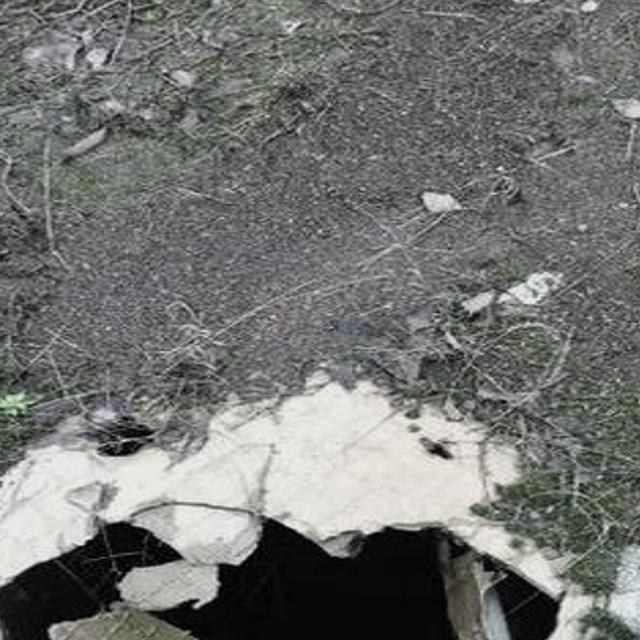broke: (0, 358, 640, 640)
